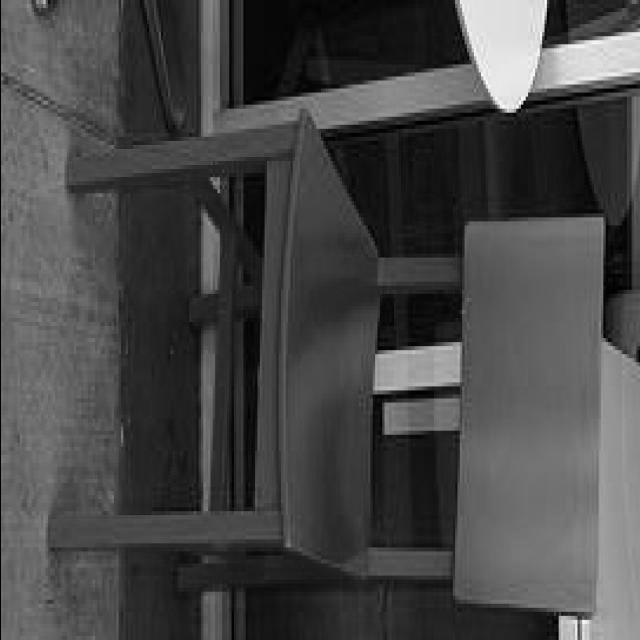chair: (48, 115, 602, 612)
